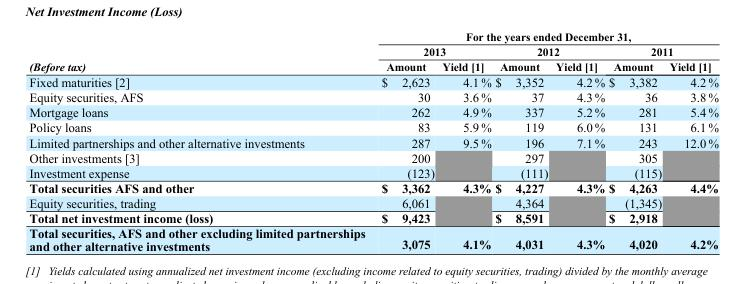table: (28, 29, 717, 252)
table column: (28, 29, 372, 252), (372, 29, 437, 252), (492, 29, 551, 252), (606, 29, 664, 252), (437, 29, 492, 252), (551, 29, 606, 252), (664, 29, 717, 252)
table column header: (28, 29, 717, 73)
table row: (28, 225, 717, 252), (28, 73, 717, 89), (28, 149, 717, 165), (28, 43, 717, 58), (28, 58, 717, 73), (28, 89, 717, 104), (28, 104, 717, 119), (28, 119, 717, 134), (28, 134, 717, 149), (28, 165, 717, 180), (28, 180, 717, 195), (28, 195, 717, 210), (28, 210, 717, 225), (28, 29, 717, 43)
table spanning cell: (28, 29, 372, 73), (372, 29, 717, 43), (372, 43, 492, 58), (492, 43, 606, 58), (606, 43, 717, 58)
